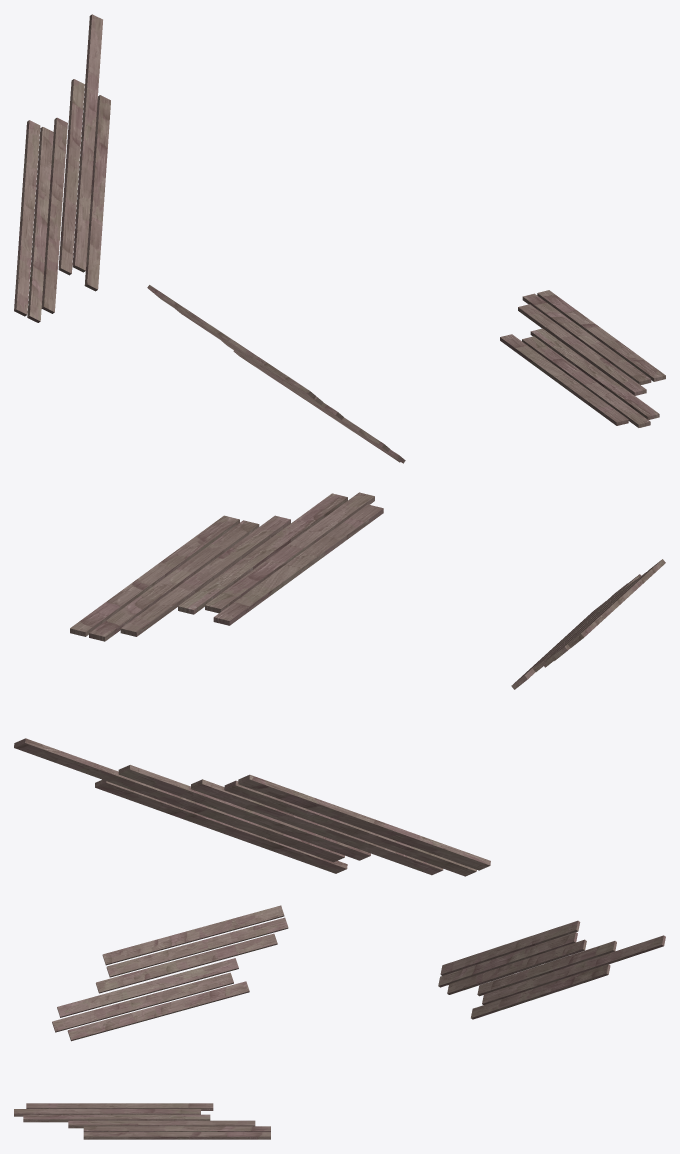
File: wood_pieces.fbx
The picture shows the model from 3 angles, top to bottom: view 1: azimuth 30°, elevation 25°; view 2: azimuth 150°, elevation 25°; view 3: azimuth 270°, elevation 25°; orthographic projection. The views are drawn at different scales.
Visible parts, largest first — view 1: Wood, Wood02, Wood01; view 2: Wood, Wood02, Wood01; view 3: Wood01, Wood, Wood02.
Part boxes in pixels (x1,y1,x2,y2): Wood: (14,14,110,322); Wood02: (500,290,665,427); Wood01: (147,285,405,463); Wood: (14,738,490,876); Wood02: (70,492,383,641); Wood01: (511,559,665,689); Wood01: (52,905,288,1041); Wood: (438,920,665,1019); Wood02: (14,1103,270,1139).
Size of the model in its own units: 1922 by 699 by 3172.
